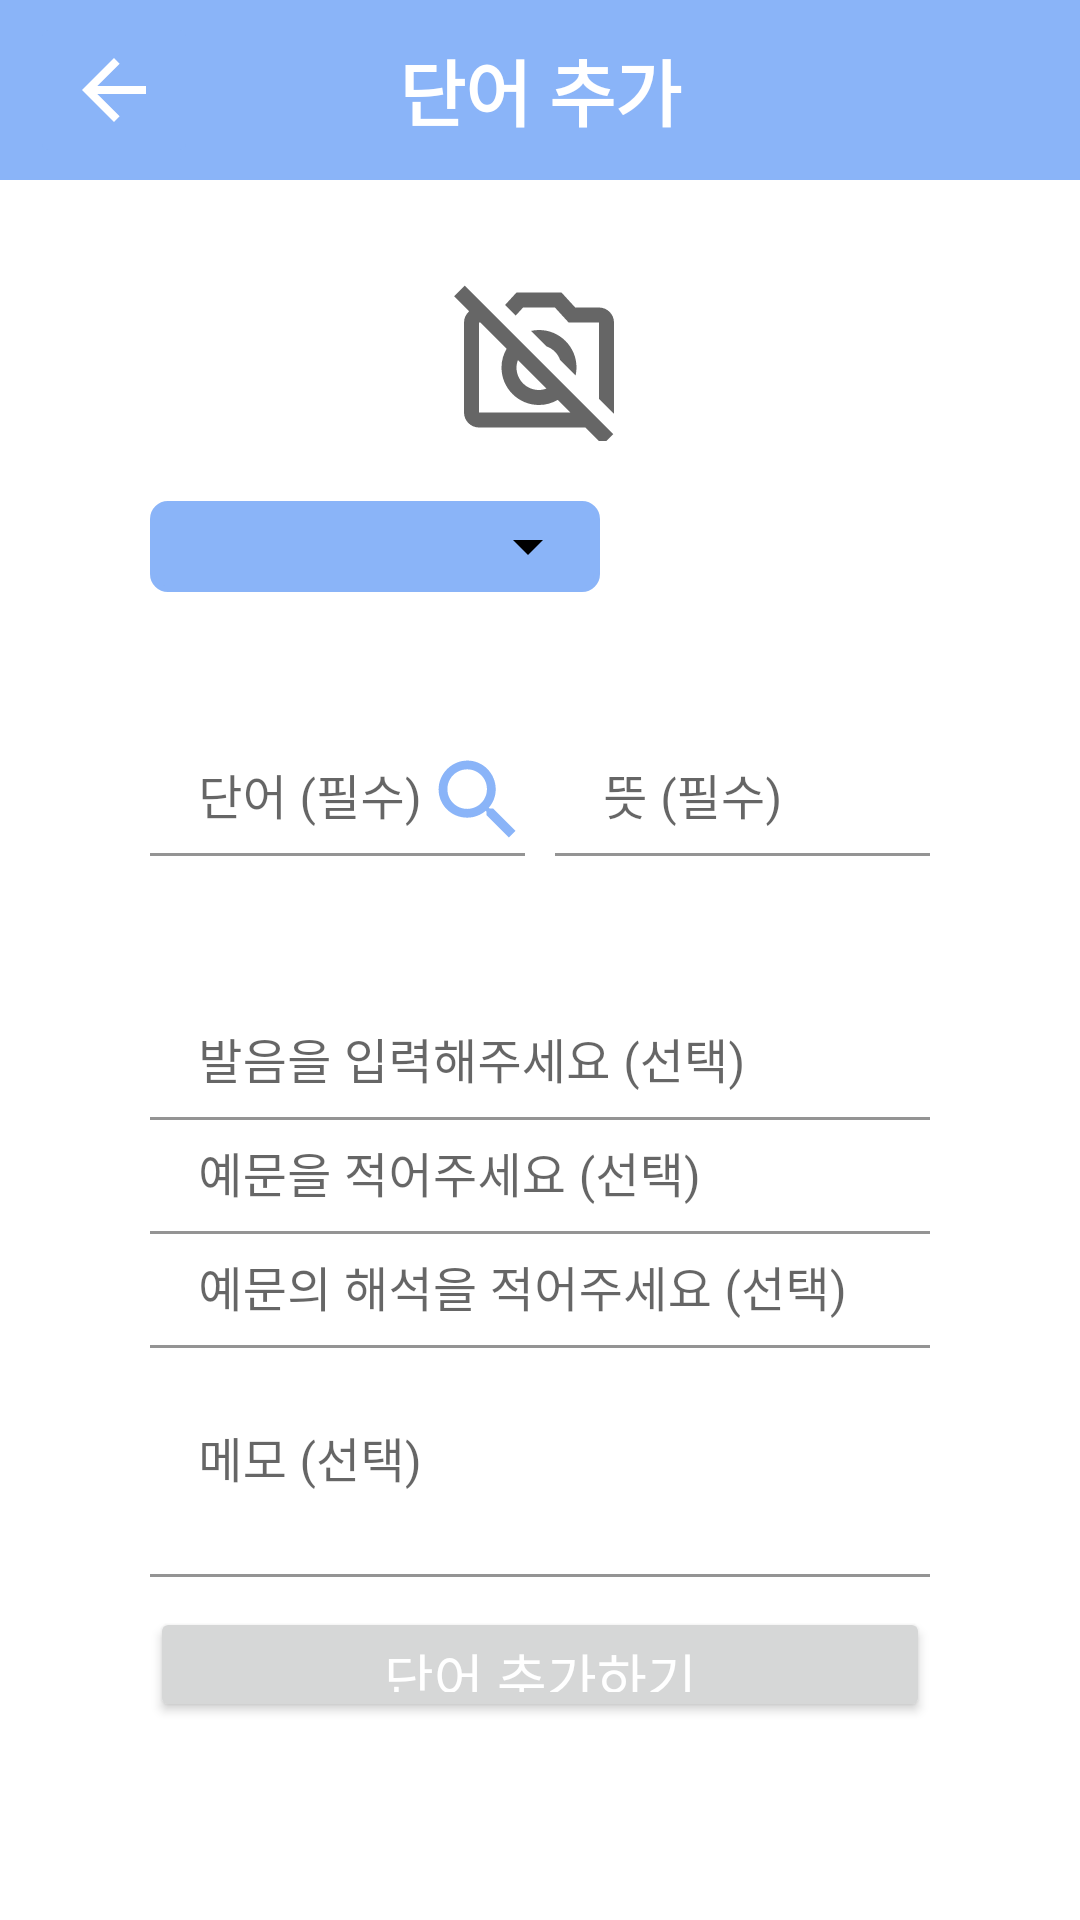

Screen size 1080 × 1920. Icon name, then its center in pixels as (x=x, y=y):
arrow back: (x=114, y=90)
no photography: (x=534, y=363)
search: (x=476, y=798)
